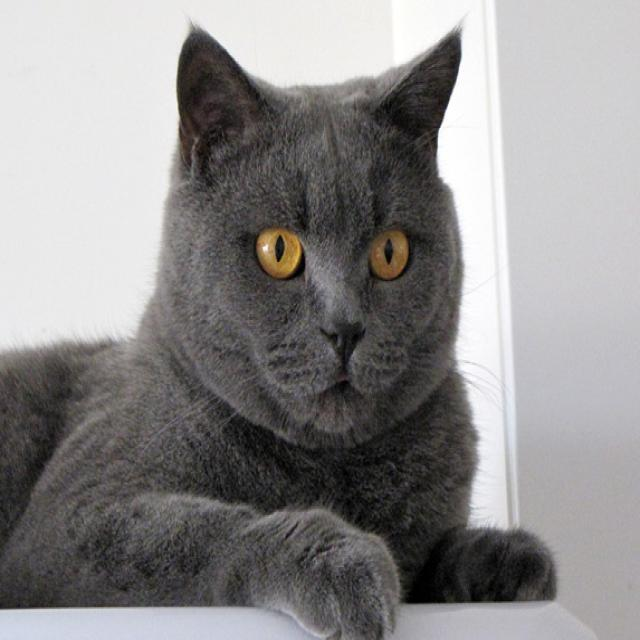British Shorthair: (0, 21, 563, 640)
